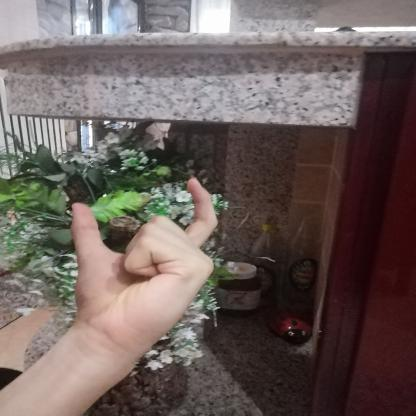NOON: (50, 166, 238, 365)
